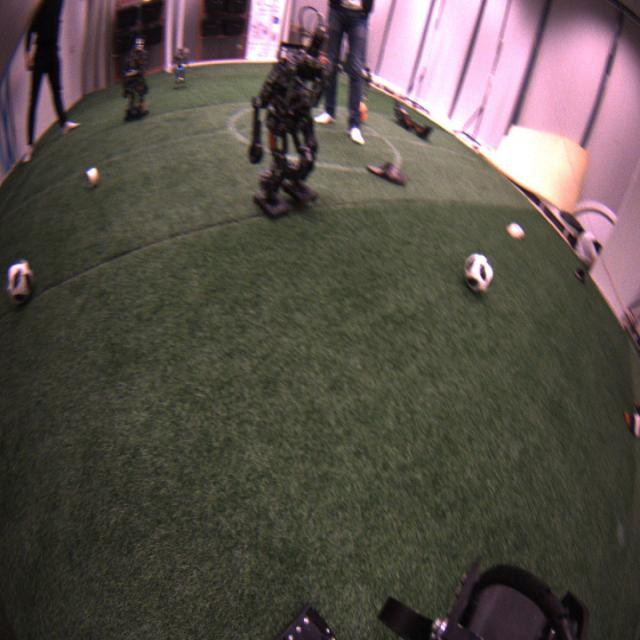ball: (5, 260, 36, 309), (464, 254, 493, 294), (357, 99, 369, 125)
goalpost: (164, 3, 175, 70)
